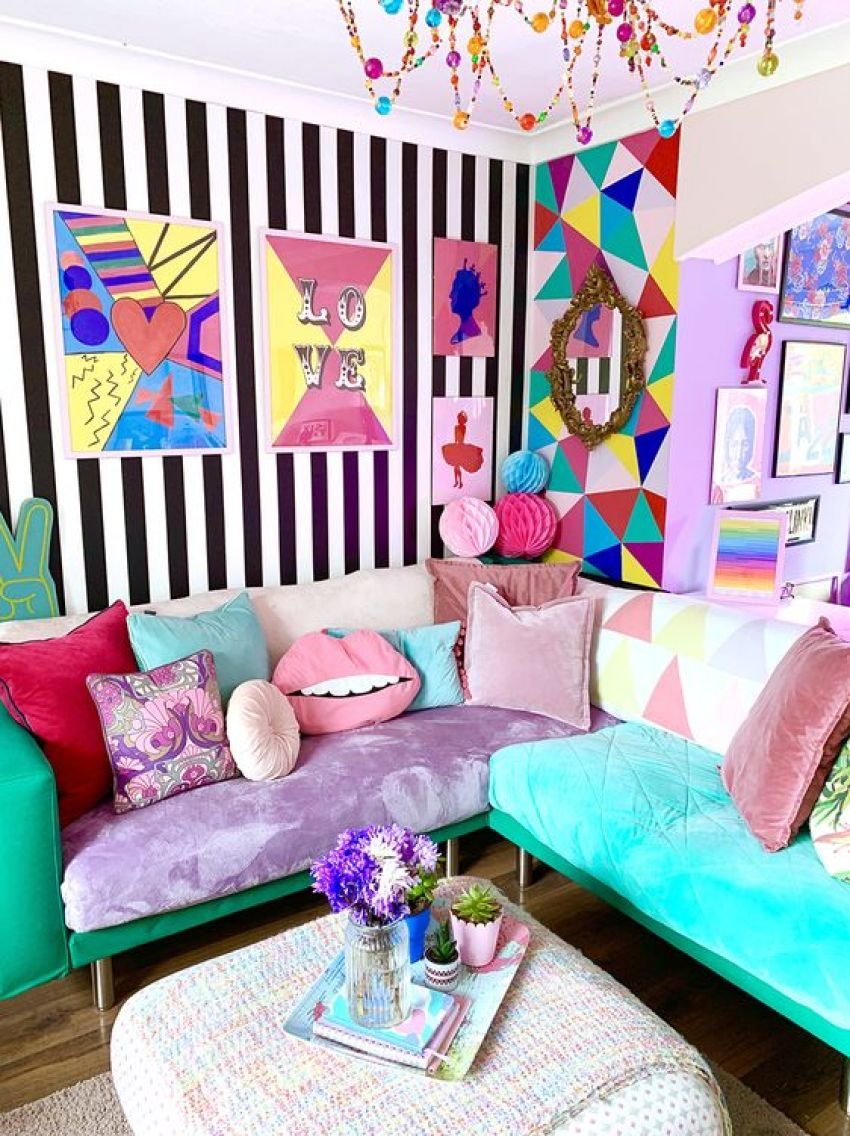biru: (488, 724, 850, 1015), (133, 611, 263, 688), (409, 630, 464, 712), (503, 450, 548, 494)
hijau: (1, 723, 63, 995)
merah: (2, 616, 124, 737), (496, 494, 549, 557)
pink: (469, 583, 598, 725), (448, 910, 501, 966), (442, 500, 495, 556)
